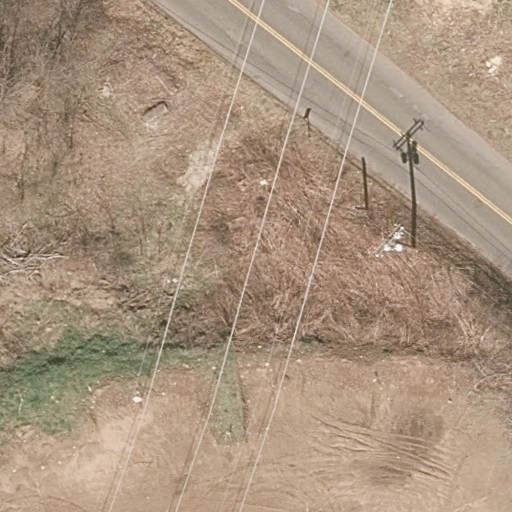DT: (368, 223, 419, 259)
